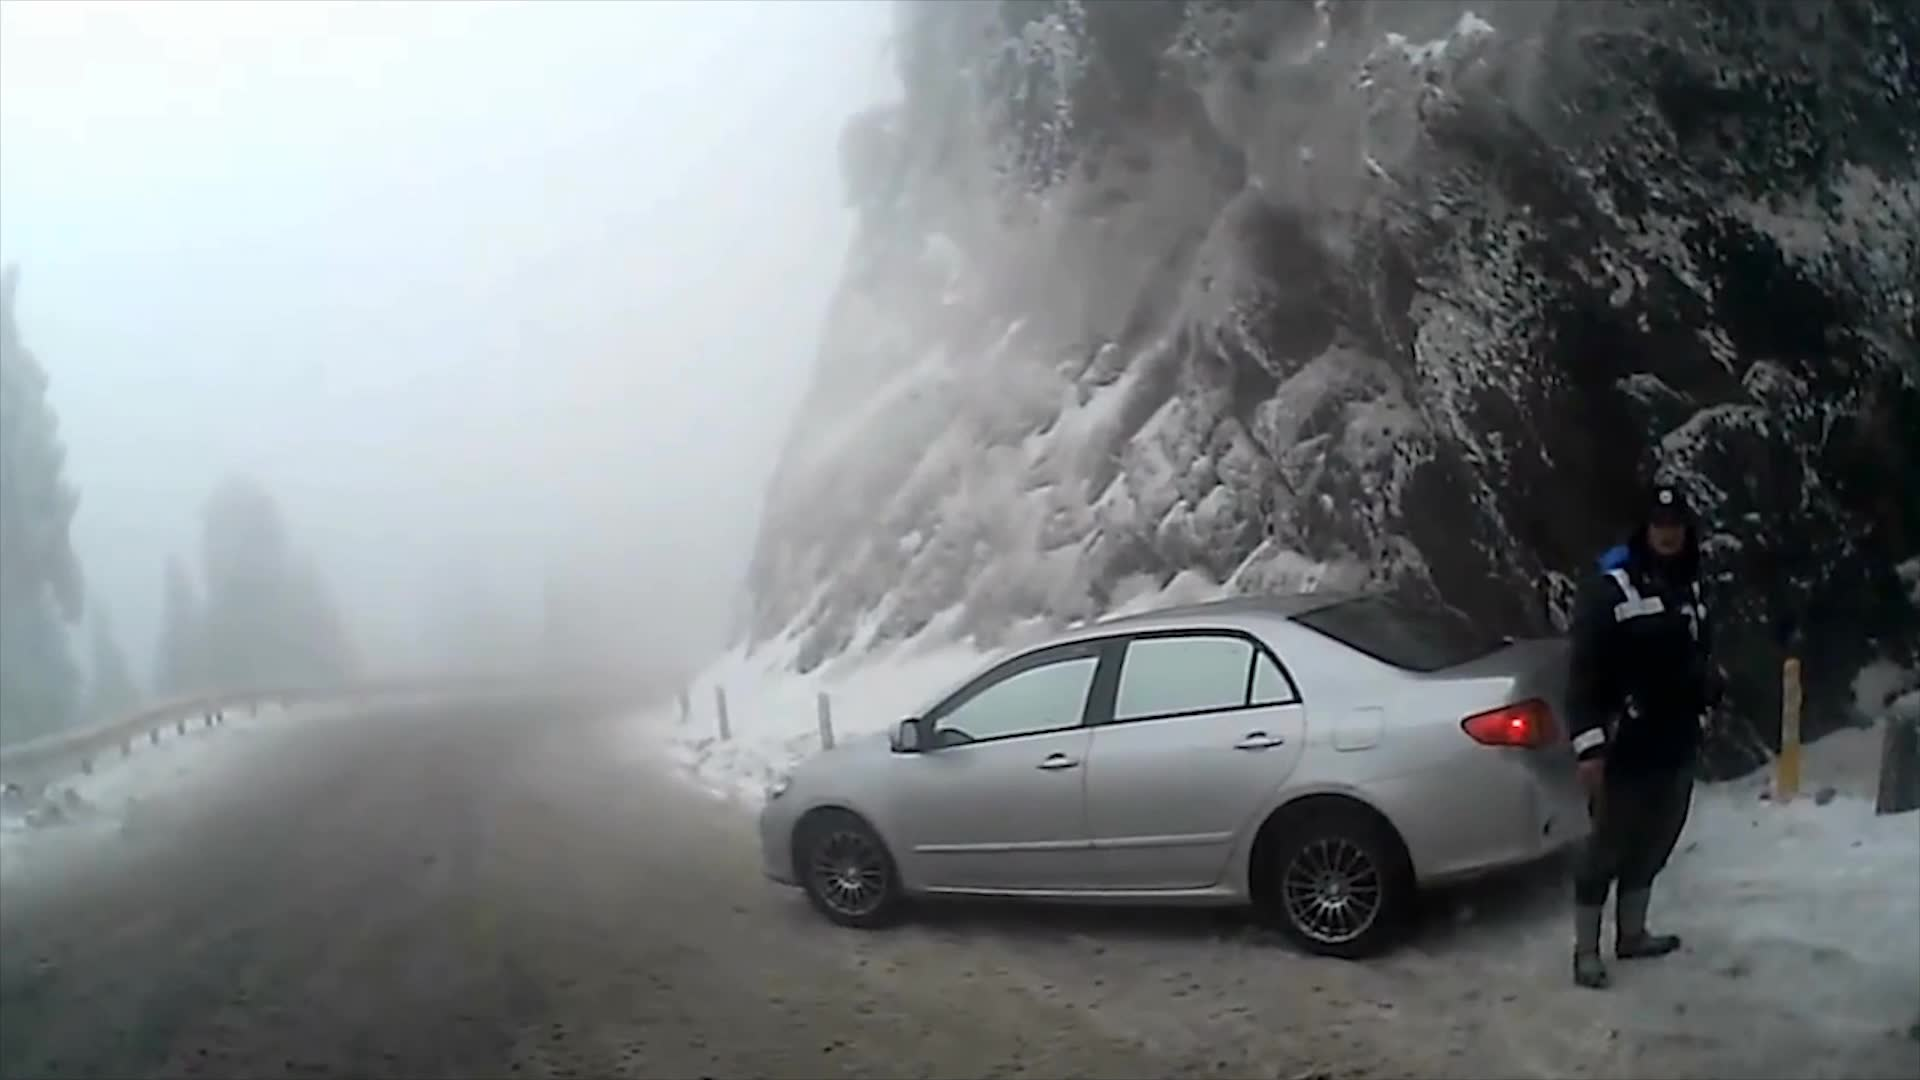pedestrian: (1569, 485, 1723, 988)
vehicle: (758, 586, 1660, 955)
